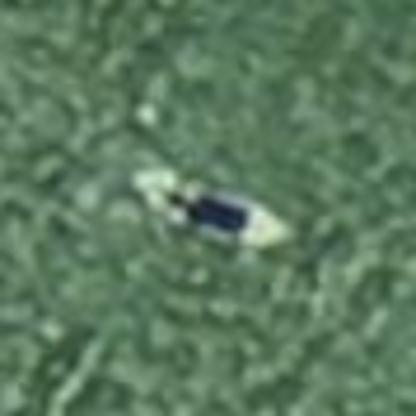ship: (117, 154, 306, 262)
